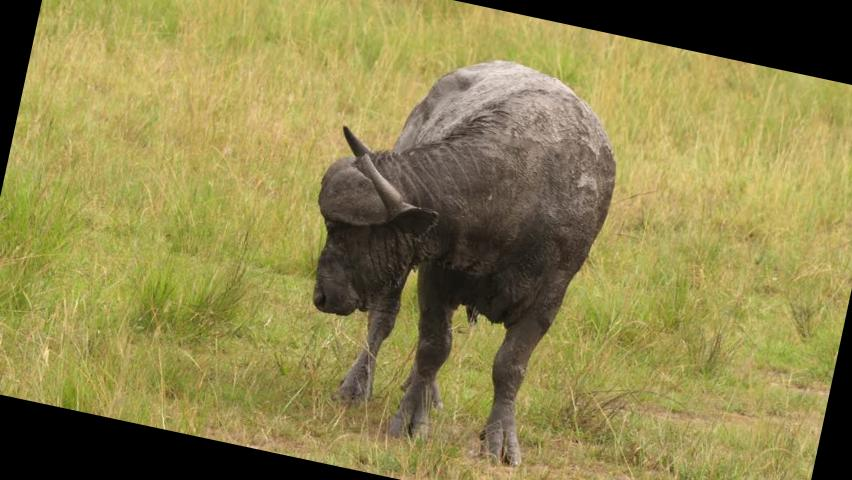Buffalo: (223, 18, 671, 480)
